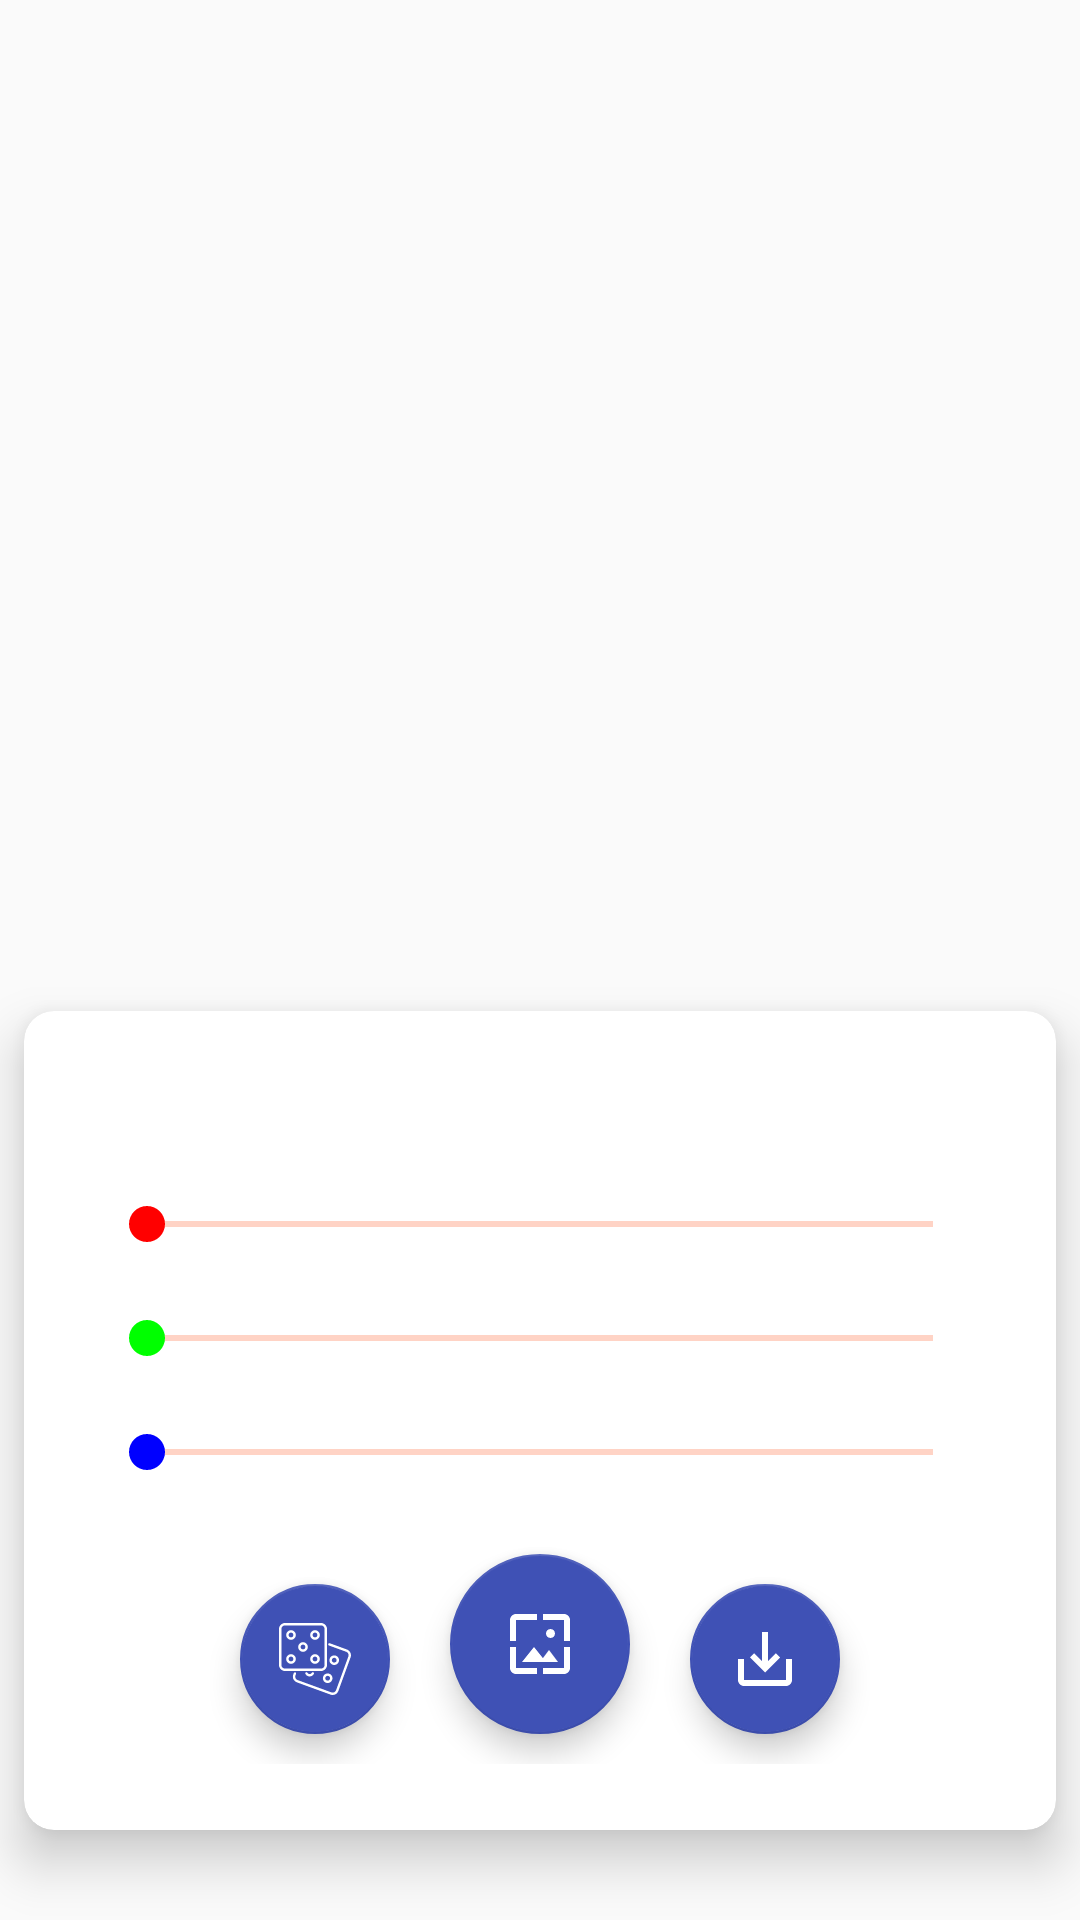

Point at icon controls on the screen. Image size 1080 × 1920, points as (x=x, y=y).
dices: (x=315, y=1659)
save: (x=765, y=1659)
